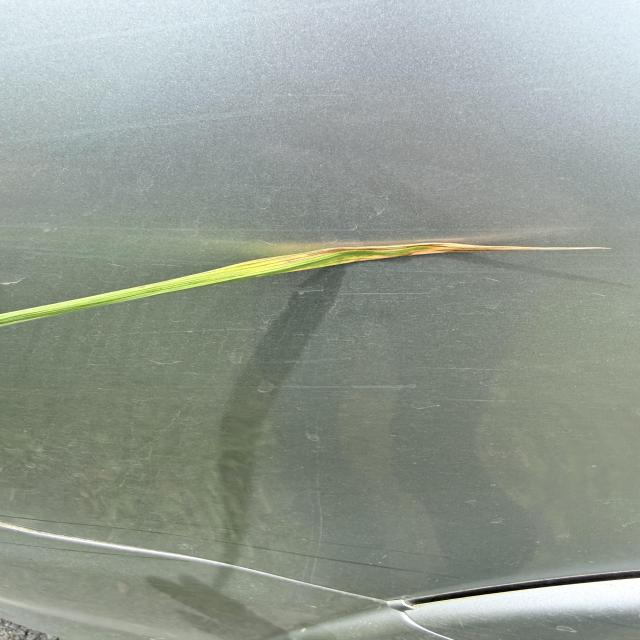Chay bia la: (279, 242, 610, 263)
